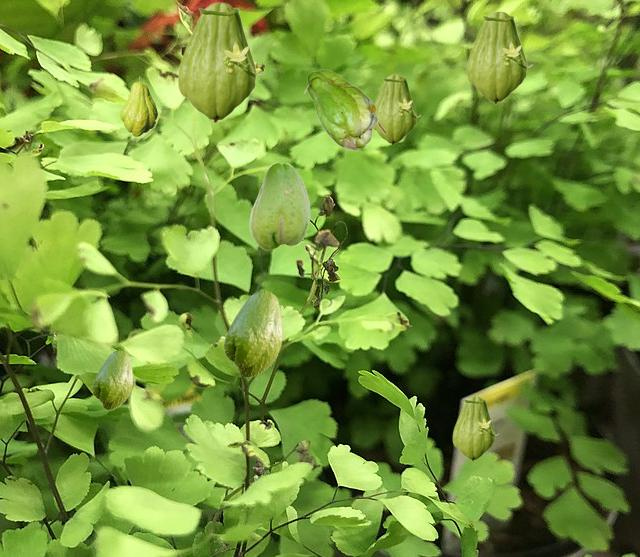sayote: (177, 2, 263, 122), (303, 69, 384, 150), (466, 11, 532, 103), (222, 290, 282, 377), (249, 162, 309, 249), (374, 74, 420, 144), (452, 396, 498, 460), (91, 350, 132, 409), (120, 76, 156, 135)
